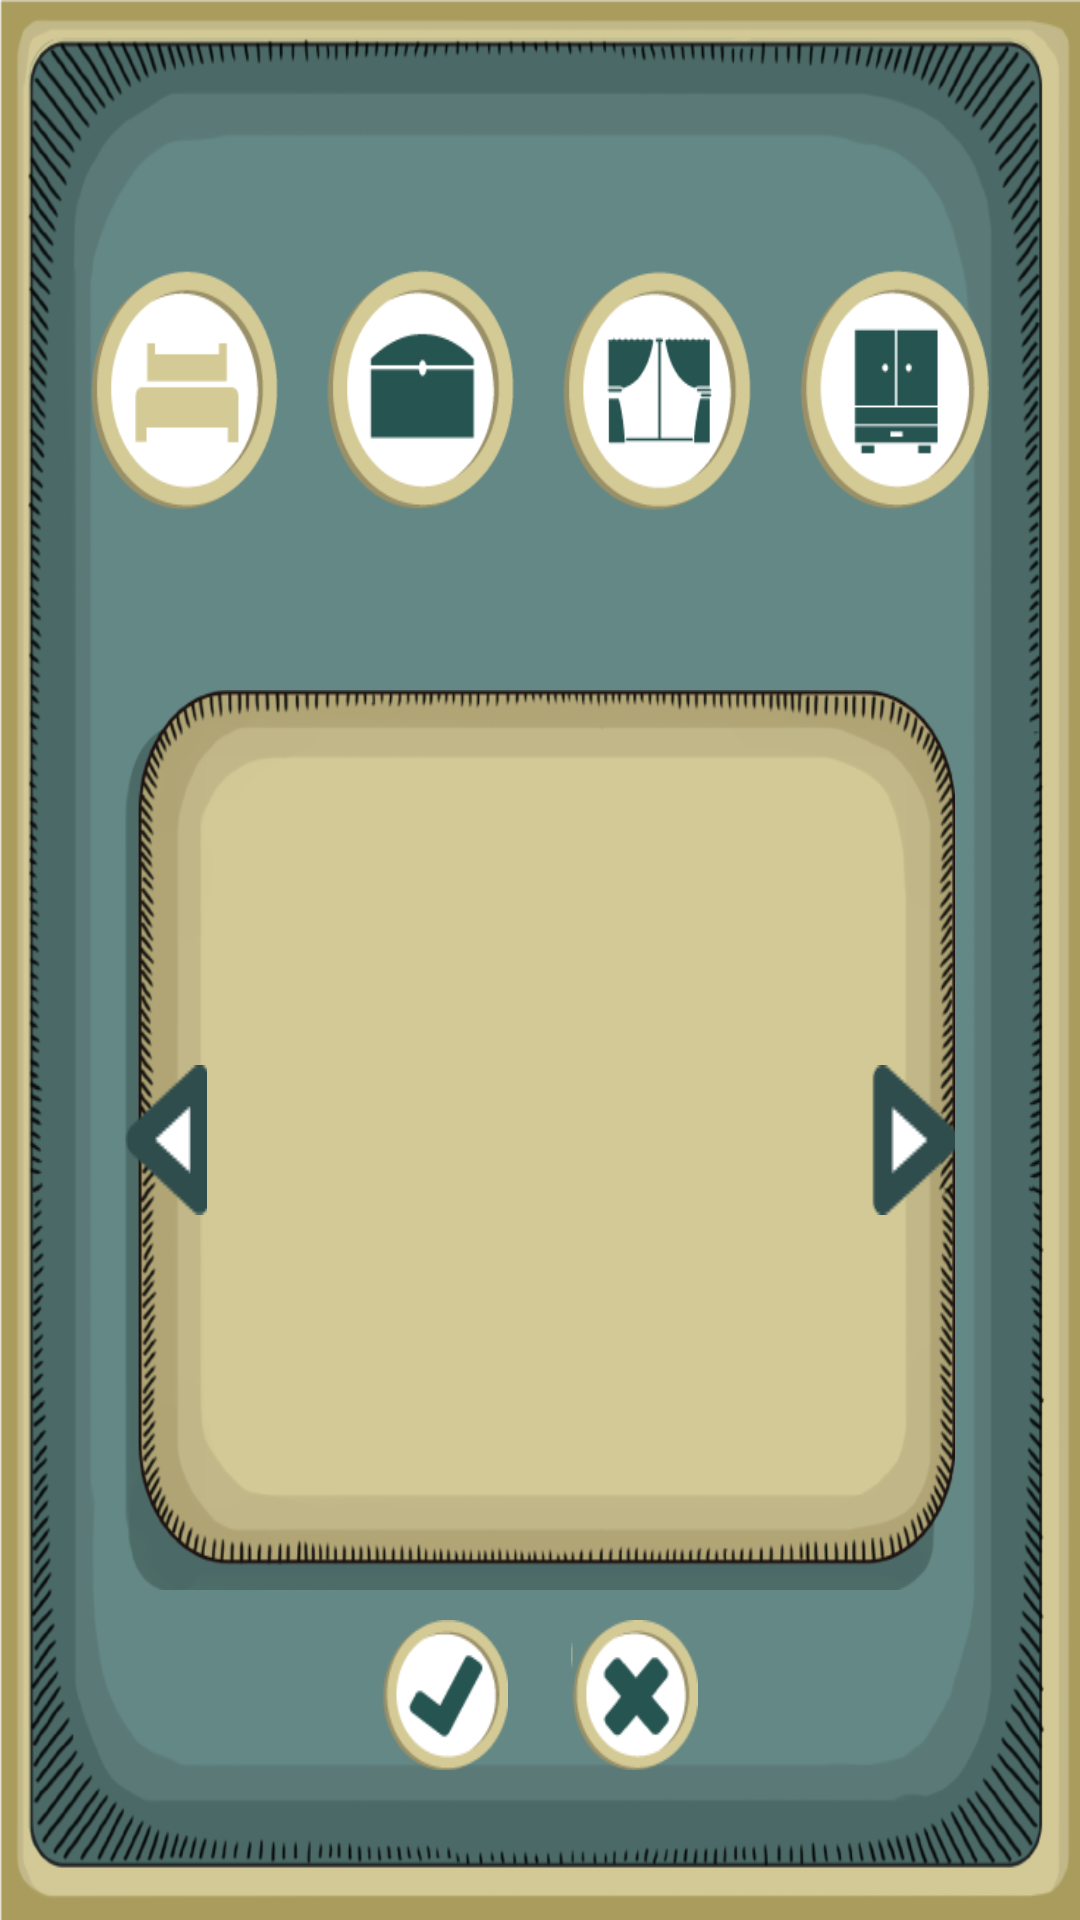

Icons on this 1080w x 1920h Android screen, each with the point to tap as (x=x, y=y):
adelante: (x=913, y=1140)
armario: (x=895, y=389)
atras: (x=165, y=1140)
baul: (x=421, y=389)
cama: (x=185, y=390)
ventana: (x=657, y=391)
